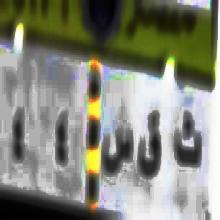4: (51, 108, 75, 170), (9, 106, 28, 167)
qaaf: (136, 104, 164, 185)
seen: (102, 120, 133, 177)
thaa: (168, 109, 207, 176)
